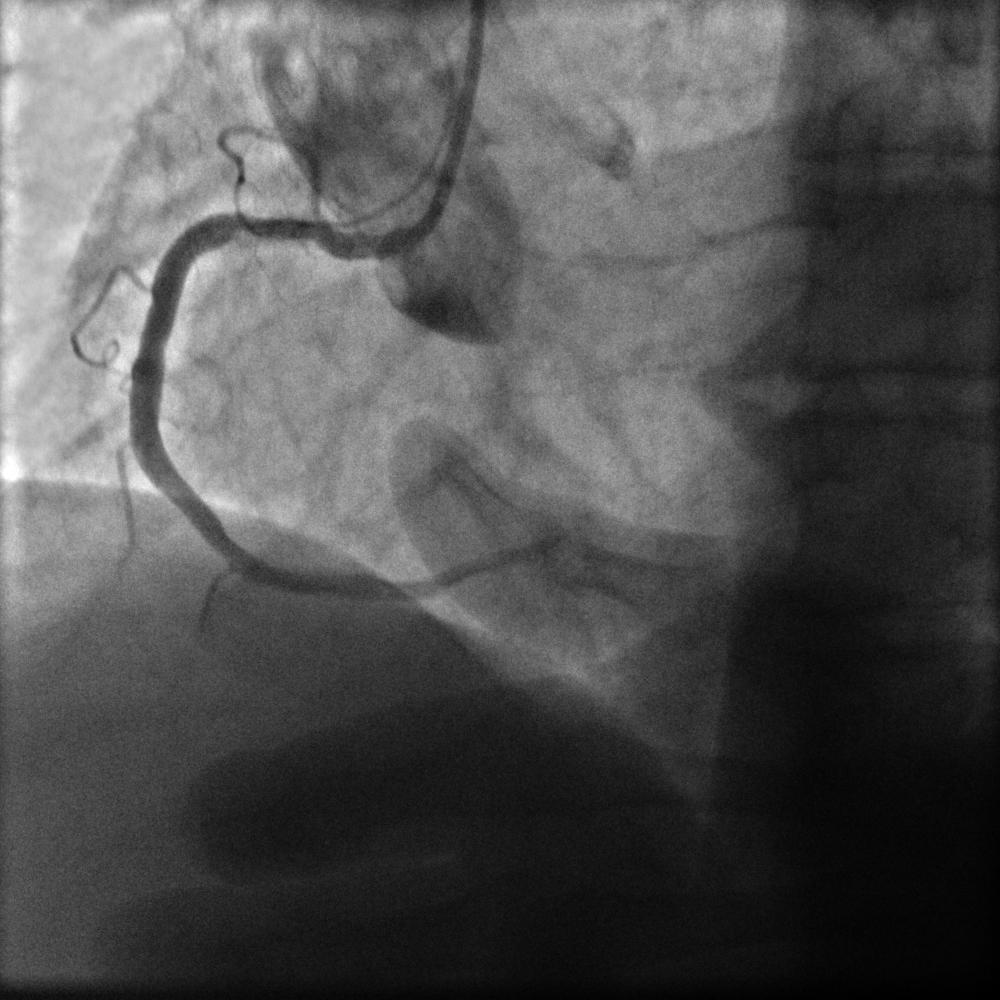Stenosis: (216, 205, 335, 260)
